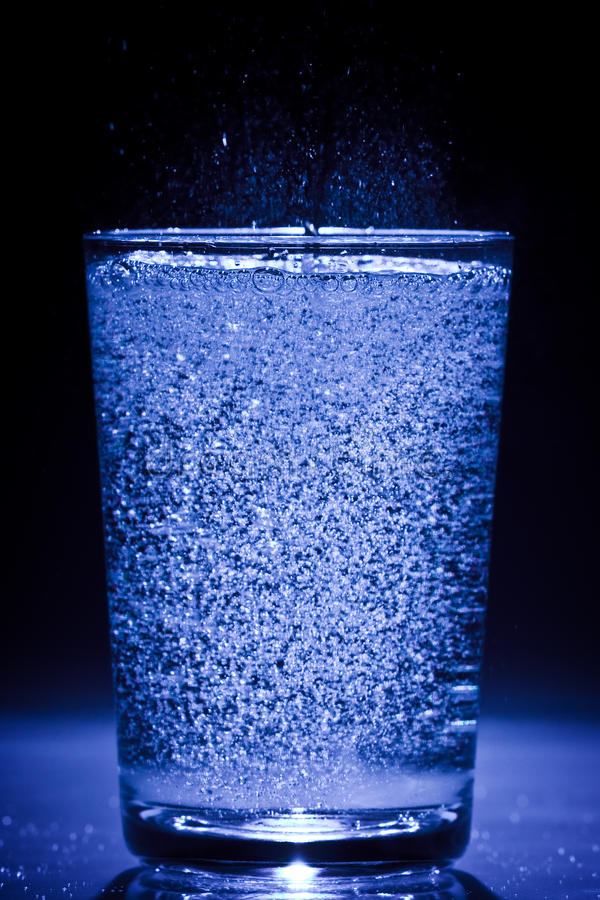glass of water: (78, 220, 495, 850)
